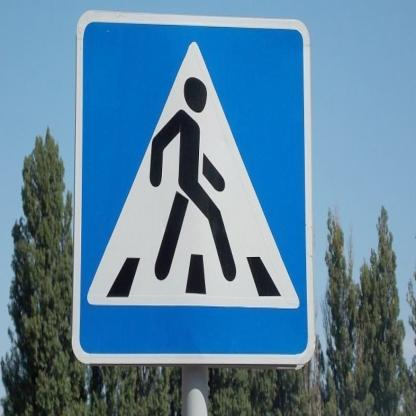road_sign: (73, 12, 313, 365)
